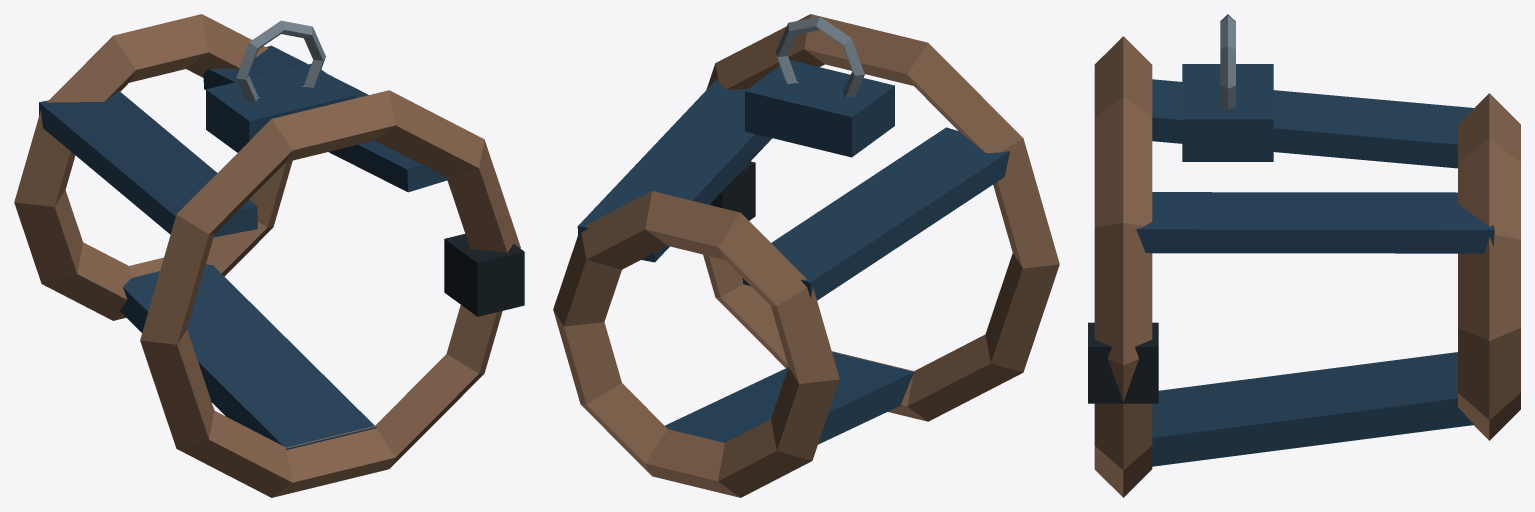
Rendered from b17_padded_dog_walking_harness.glb.
3 views of the same model, side by side, from view 1: azimuth 30°, elevation 25°; view 2: azimuth 150°, elevation 25°; view 3: azimuth 270°, elevation 25° (orthographic). The views are drawn at different scales.
Parts seen in each view (by area): view 1: b17_padded_dog_walking_harness; view 2: b17_padded_dog_walking_harness; view 3: b17_padded_dog_walking_harness.
Part boxes in pixels (x1,y1,x2,y2): b17_padded_dog_walking_harness: (14, 14, 524, 497); b17_padded_dog_walking_harness: (553, 14, 1059, 497); b17_padded_dog_walking_harness: (1088, 14, 1520, 497).
Size of the model in its own units: 0.178 by 0.1906 by 0.1655.
